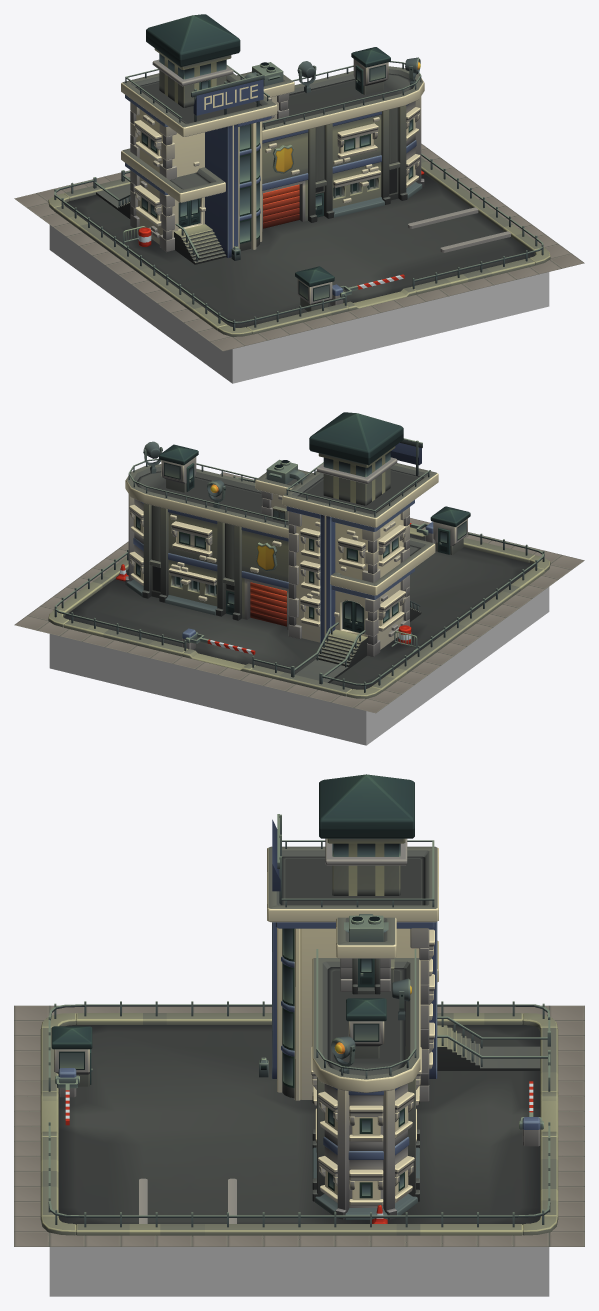
File: police_station.fbx
3 views of the same model, one above another, from view 1: azimuth 30°, elevation 25°; view 2: azimuth 150°, elevation 25°; view 3: azimuth 270°, elevation 25° (orthographic). The views are drawn at different scales.
Visible parts, largest first — view 1: police_station, ground_block, sidewalk, garage_door_police_station_front; view 2: police_station, ground_block, sidewalk, garage_door_police_station_back; view 3: police_station, ground_block, sidewalk.
Boxes of the visible parts, x1,y1,x2,y2 form: police_station: (48, 14, 550, 336); ground_block: (49, 225, 549, 383); sidewalk: (14, 143, 584, 351); garage_door_police_station_front: (263, 184, 299, 228); police_station: (48, 412, 550, 698); ground_block: (49, 587, 549, 745); sidewalk: (14, 472, 584, 713); garage_door_police_station_back: (250, 582, 286, 626); police_station: (40, 774, 558, 1235); ground_block: (49, 1247, 549, 1296); sidewalk: (14, 1005, 584, 1246).
Bounding box in the file's own units: 3200 × 2231 × 3200.
